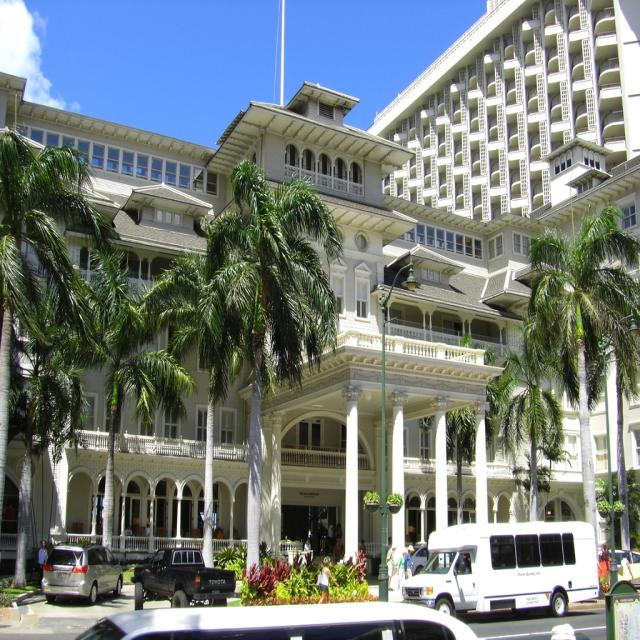Buses: (401, 520, 600, 616)
Pickup Trucks: (132, 546, 234, 606)
Sport-Utility-Vehicle: (40, 544, 124, 604)
